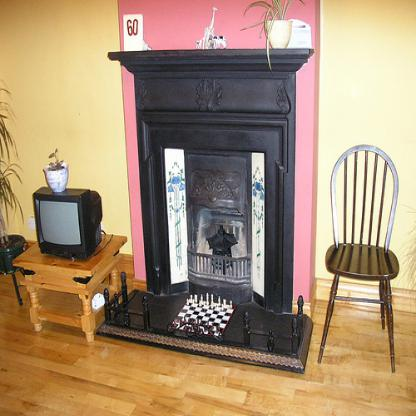chair: (317, 144, 400, 374)
pottedplant: (0, 77, 29, 276), (239, 0, 306, 70), (41, 148, 70, 193)
tvmonitor: (32, 186, 104, 260)
